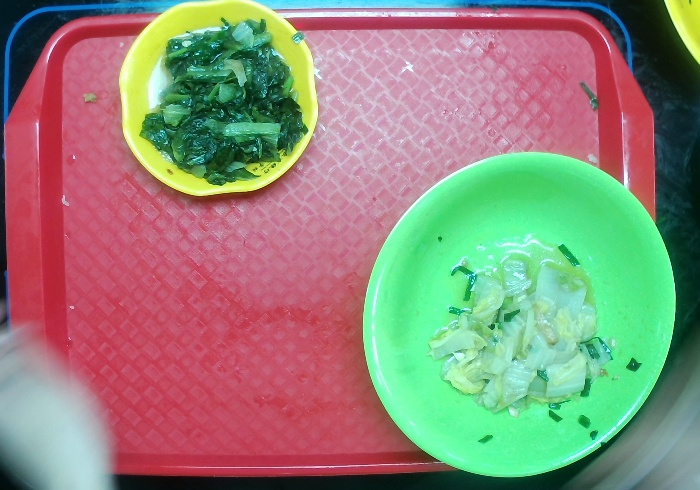YKMZ-Huang_Se_Ao_Bian_Wan: (116, 1, 319, 198)
YKMZ-Lv_Se_Tang_Wan: (360, 151, 679, 479)
